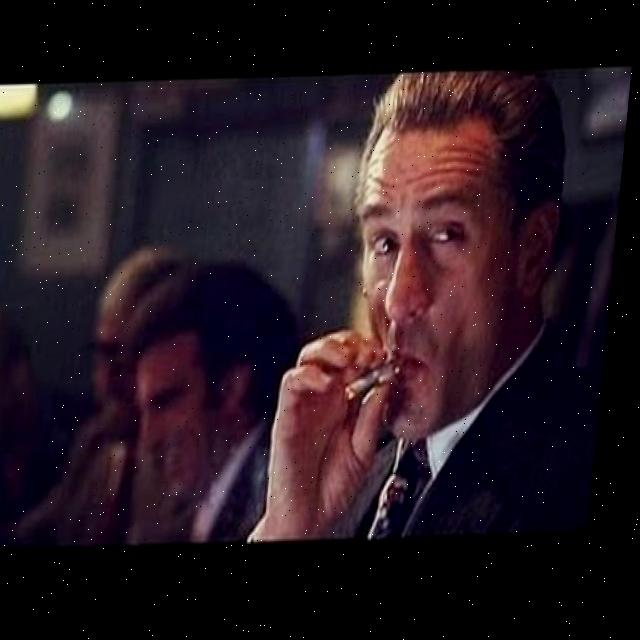cigarette: (352, 365, 411, 402)
